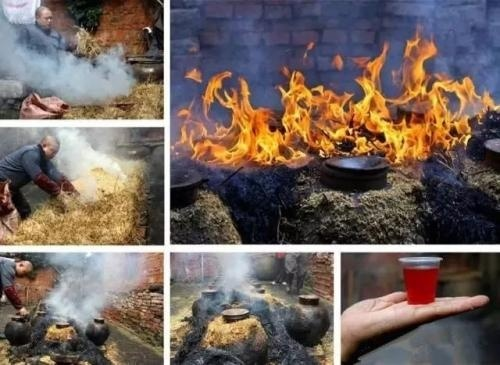fire: (176, 17, 500, 165), (43, 319, 75, 340)
